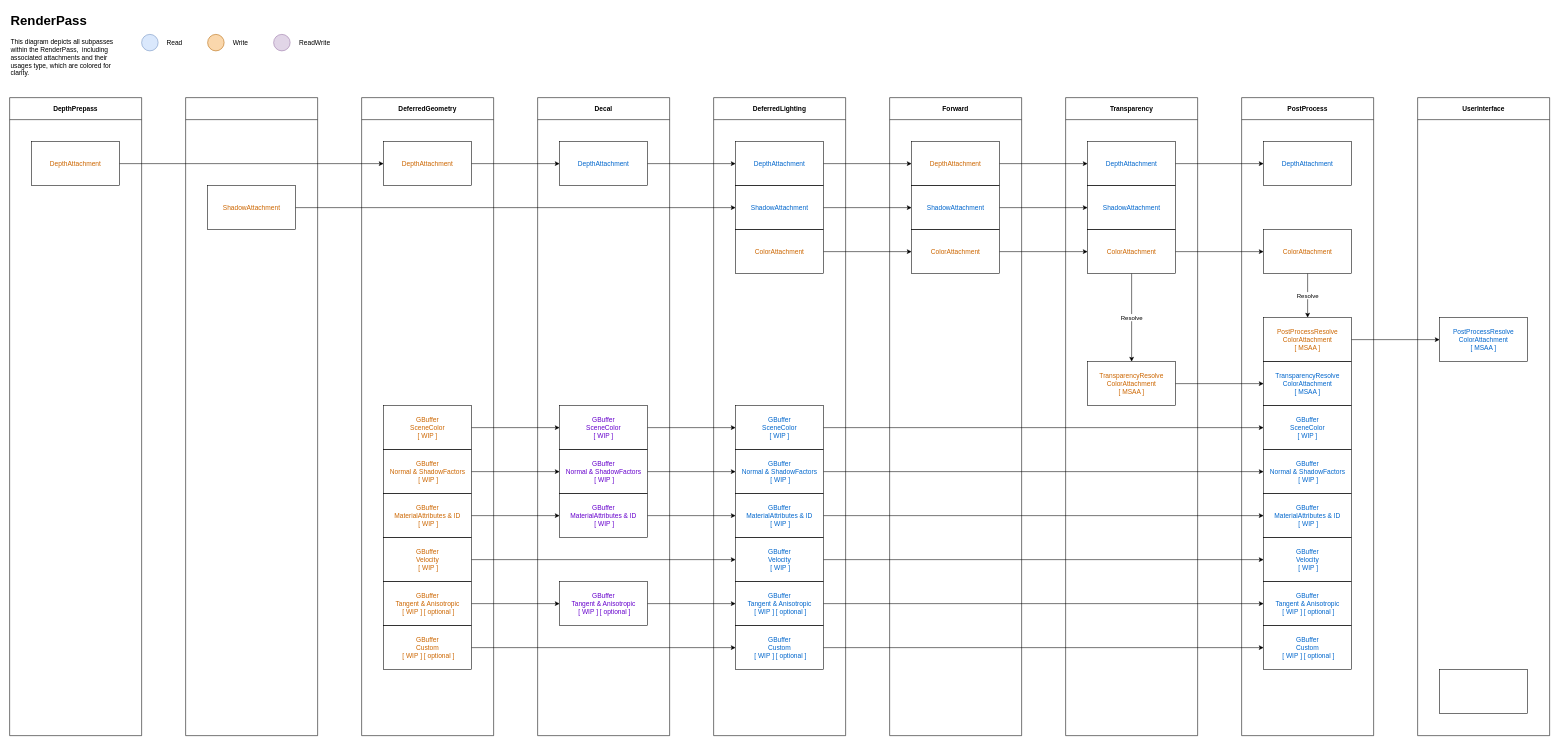
Image size: 1559x745. Some labels were removed from this diagram. The shapes that lost their labels are listed below. From the top down, each one's centre as x and y in pixels, then its label:
point 251,416: Shadow
point 1483,691: Present ColorAttachment
